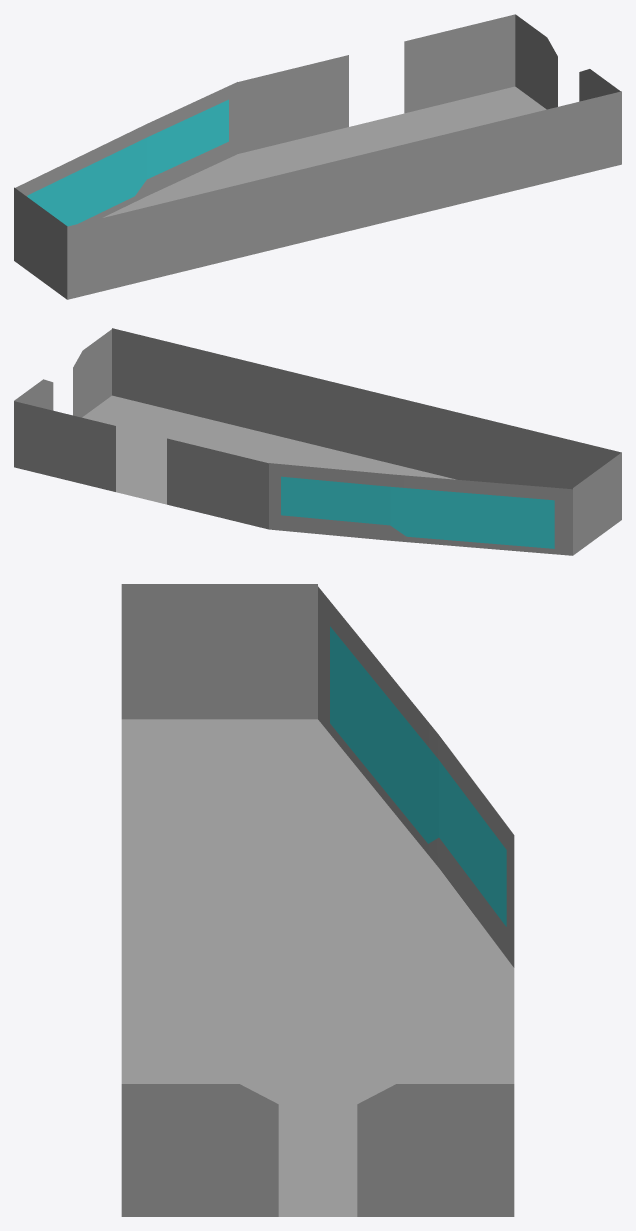
File: menu3 1.fbx
3 renders of one model, top to bottom at view 1: azimuth 30°, elevation 25°; view 2: azimuth 150°, elevation 25°; view 3: azimuth 270°, elevation 25°, orthographic. The views are drawn at different scales.
Visible parts, largest first — view 1: polySurface11, polySurface20, polySurface19, polySurface18, polySurface21, polySurface13, polySurface16, polySurface15; view 2: polySurface11, polySurface20, polySurface21, polySurface18, polySurface19, polySurface13, polySurface15, polySurface16; view 3: polySurface18, polySurface13, polySurface15, polySurface21, polySurface16, polySurface20, polySurface19.
Part boxes in pixels (left/top/right/bottom): polySurface11: left=67, top=91, right=621, bottom=299; polySurface20: left=15, top=55, right=348, bottom=223; polySurface19: left=404, top=14, right=557, bottom=122; polySurface18: left=103, top=100, right=490, bottom=217; polySurface21: left=27, top=99, right=228, bottom=226; polySurface13: left=14, top=187, right=67, bottom=299; polySurface16: left=515, top=14, right=547, bottom=109; polySurface15: left=579, top=69, right=620, bottom=101; polySurface11: left=112, top=328, right=621, bottom=489; polySurface20: left=167, top=438, right=572, bottom=555; polySurface21: left=281, top=476, right=554, bottom=548; polySurface18: left=116, top=408, right=455, bottom=504; polySurface19: left=14, top=379, right=162, bottom=491; polySurface13: left=573, top=452, right=621, bottom=555; polySurface15: left=73, top=329, right=111, bottom=417; polySurface16: left=14, top=379, right=43, bottom=407; polySurface18: left=121, top=719, right=514, bottom=1167; polySurface13: left=121, top=584, right=317, bottom=719; polySurface15: left=121, top=1084, right=278, bottom=1216; polySurface21: left=330, top=626, right=506, bottom=926; polySurface16: left=396, top=1084, right=514, bottom=1216; polySurface20: left=318, top=586, right=514, bottom=967; polySurface19: left=278, top=1084, right=396, bottom=1216.
Size of the model in its own units: 3 by 0.3804 by 1.
